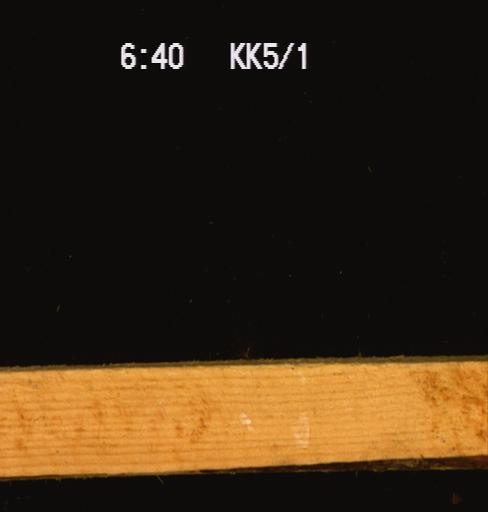wave: (205, 451, 487, 474)
